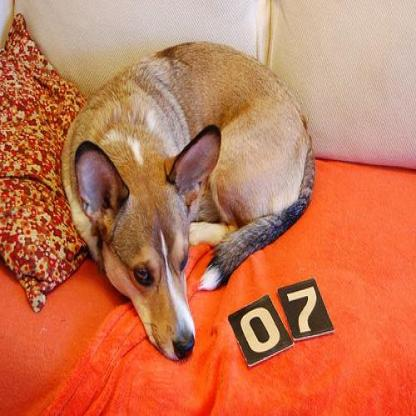Cardigan: (60, 42, 314, 362)
